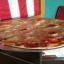pizza: (1, 19, 63, 48)
